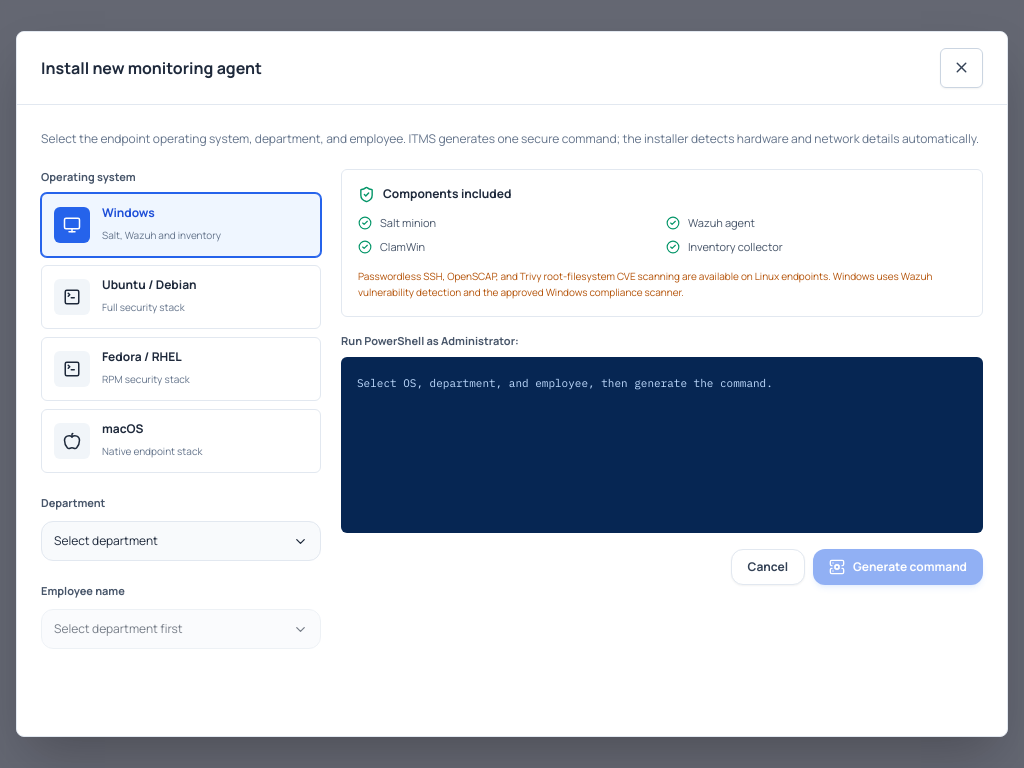
Test: InstallAgentModal › generates the full Linux command for the selected employee
Click the button "Ubuntu / Debian Full security stack" at x=72, y=297, box [41,265,321,329]
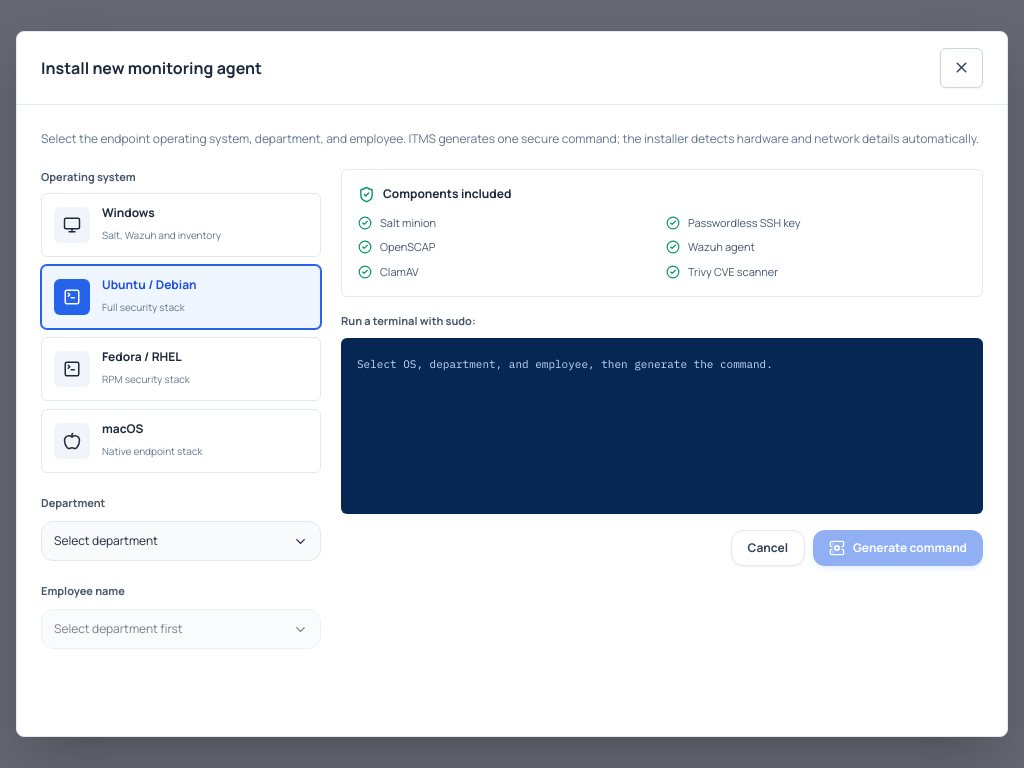
Click the dropdown labelled "Select department" at x=106, y=541, box [41,521,321,561]
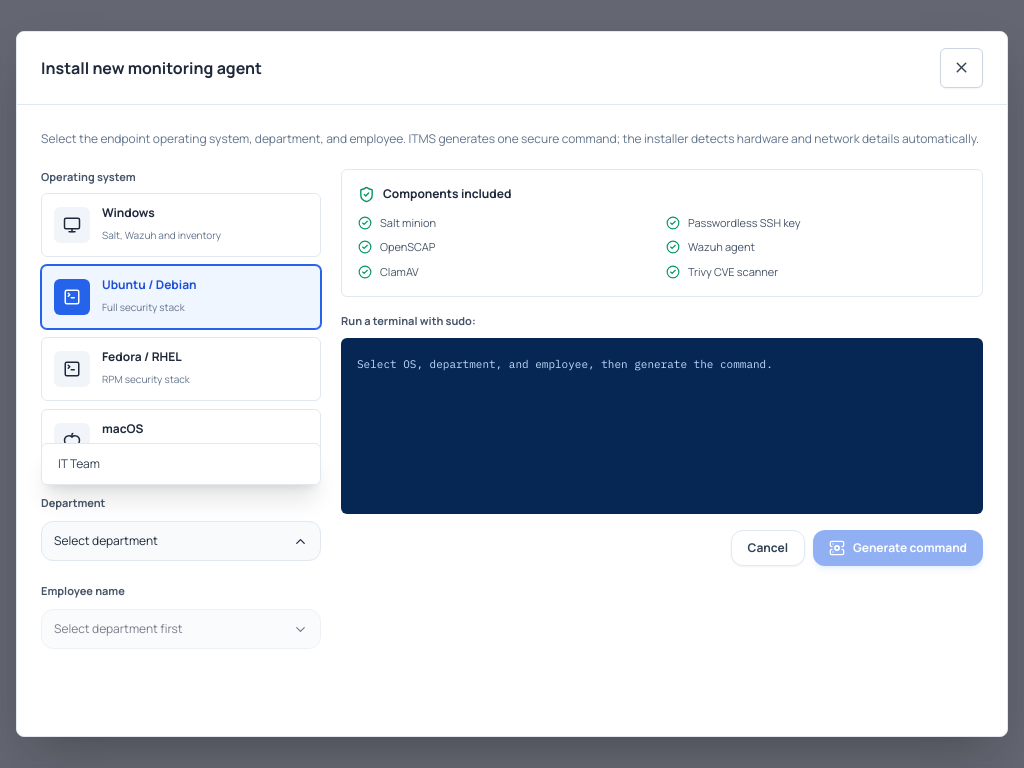
Press the mouse on the option "IT Team" at x=79, y=464, box [46,448,316,480]
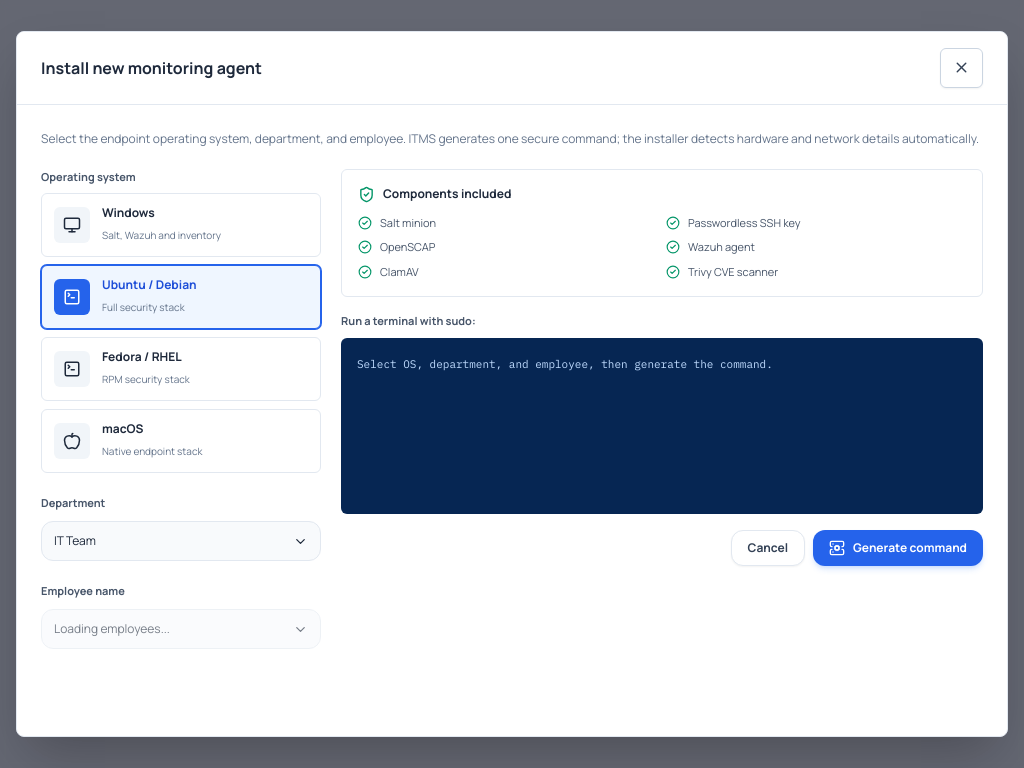
Click the button "Generate command" at x=898, y=548, box [813,530,983,566]
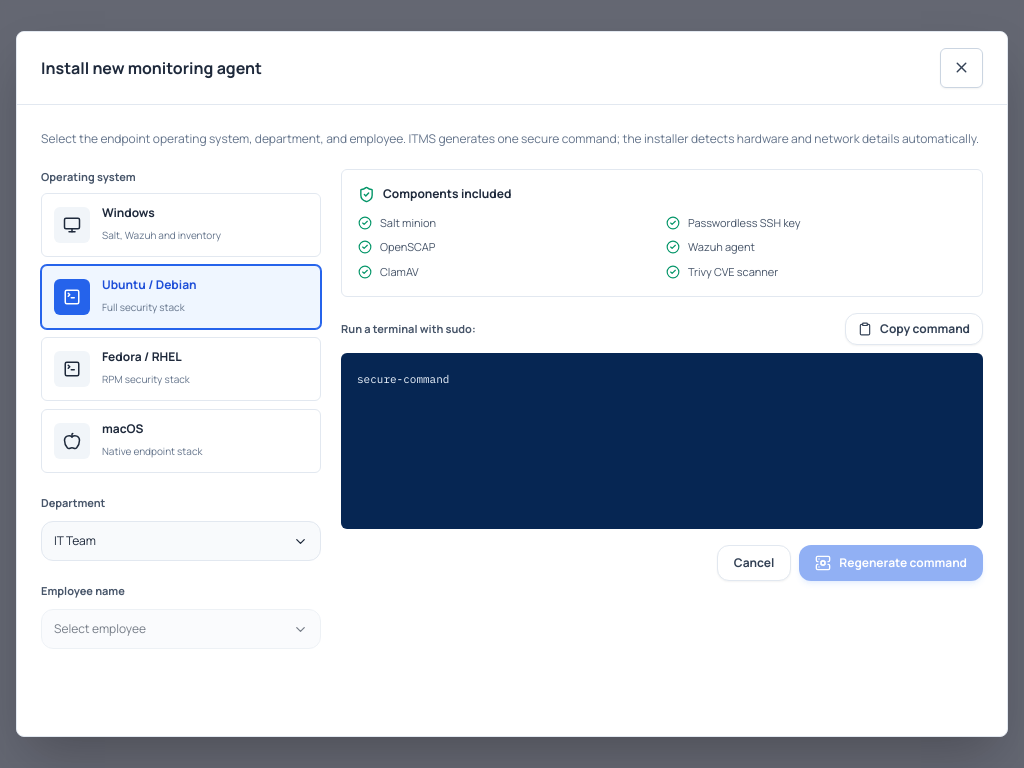
Expected: the text "Passwordless SSH key" is shown, [666,215,801,230]
Expected: the text "secure-command" is shown, [341,353,983,529]
